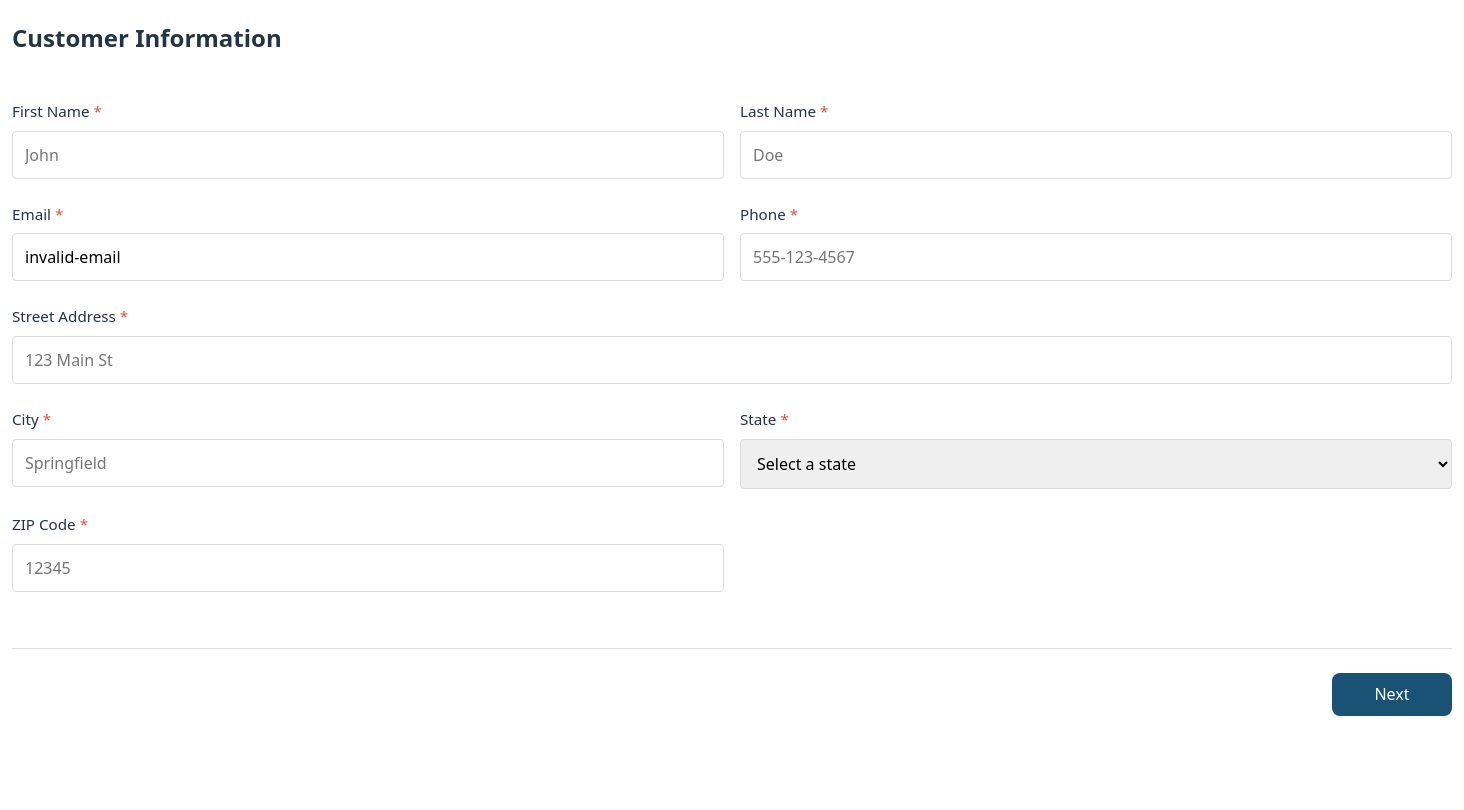
Test: CustomerInfo › shows email validation error for invalid email
Click the button "Next" at (1392, 694), box [1332,673,1452,716]
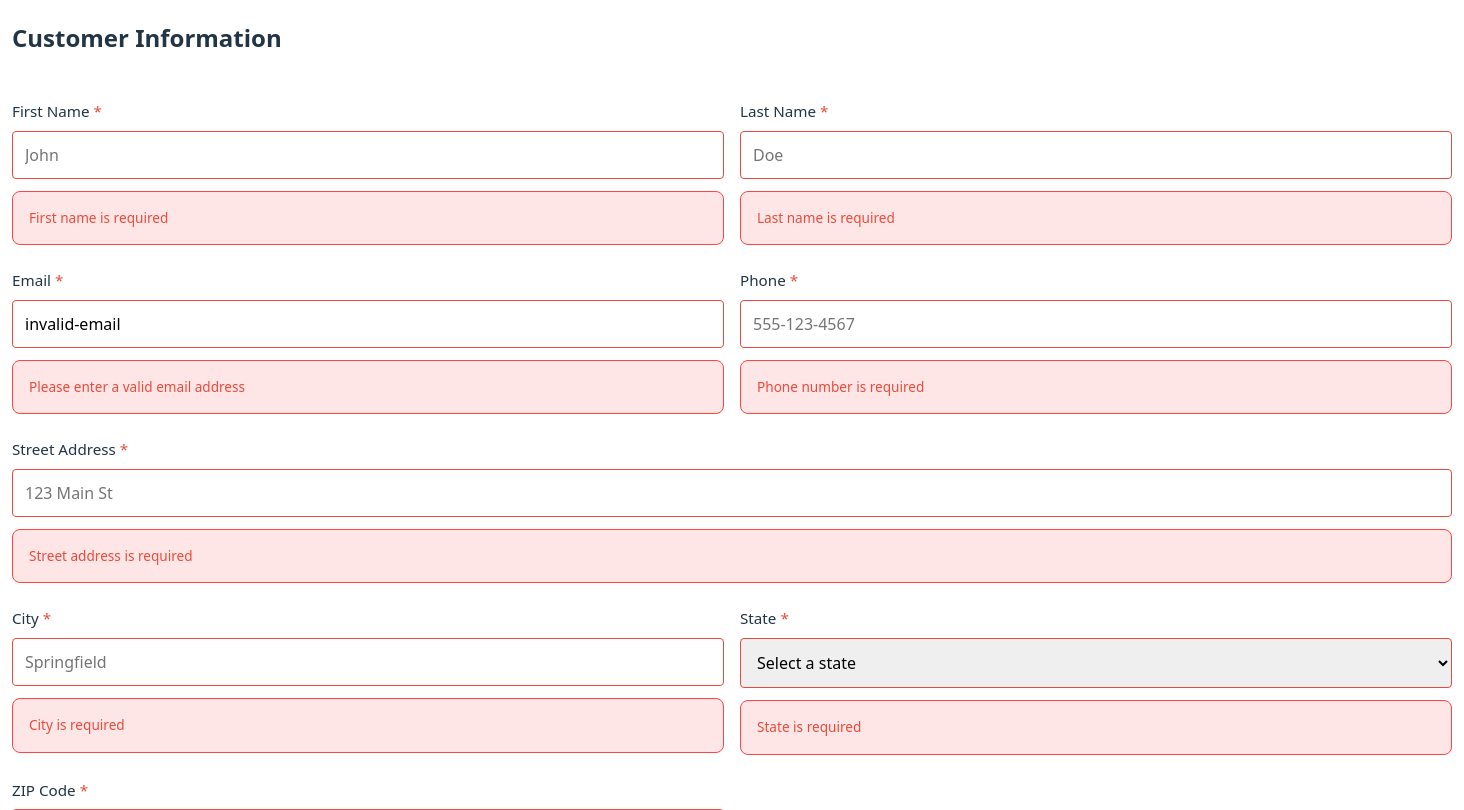
Expected: the text "Please enter a valid email address" is shown, [12,360,724,414]
